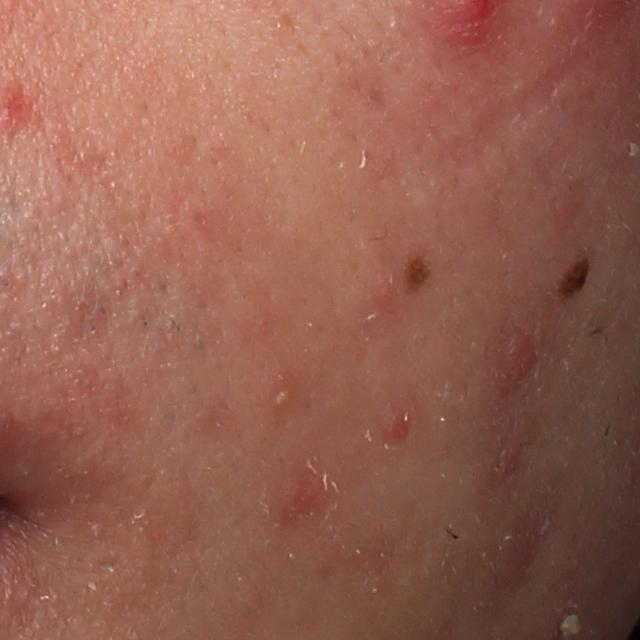nevus: (556, 251, 593, 305), (399, 252, 436, 291)
papule: (364, 403, 430, 457), (275, 467, 325, 527), (499, 333, 544, 386)
